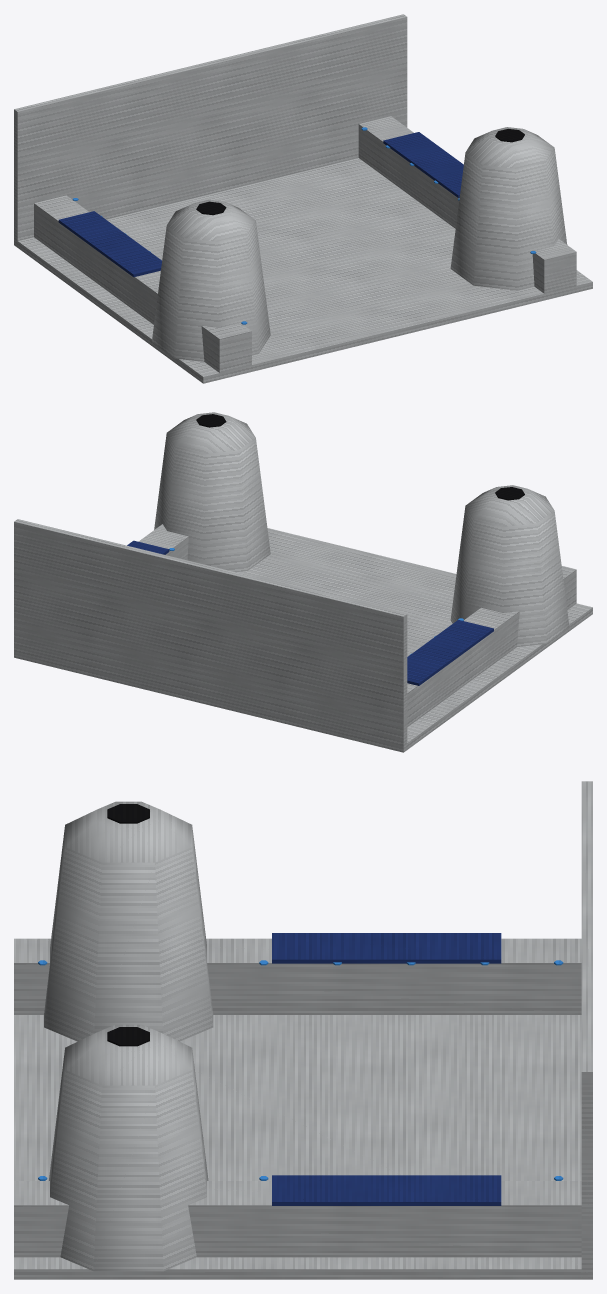
The model's file is carroceria_comp_n2.glb.
3 renders of one model, top to bottom at view 1: azimuth 30°, elevation 25°; view 2: azimuth 150°, elevation 25°; view 3: azimuth 270°, elevation 25°, orthographic. The views are drawn at different scales.
Parts seen in each view (by area): view 1: carroceria_comp_n2; view 2: carroceria_comp_n2; view 3: carroceria_comp_n2.
Boxes of the visible parts, x1=… form: carroceria_comp_n2: x1=14, y1=14, x2=592, y2=383; carroceria_comp_n2: x1=14, y1=412, x2=592, y2=752; carroceria_comp_n2: x1=14, y1=781, x2=592, y2=1279.
Bounding box in the file's own units: 1.22 × 0.404 × 1.01.
Materials: 1 (1 with a texture image).
